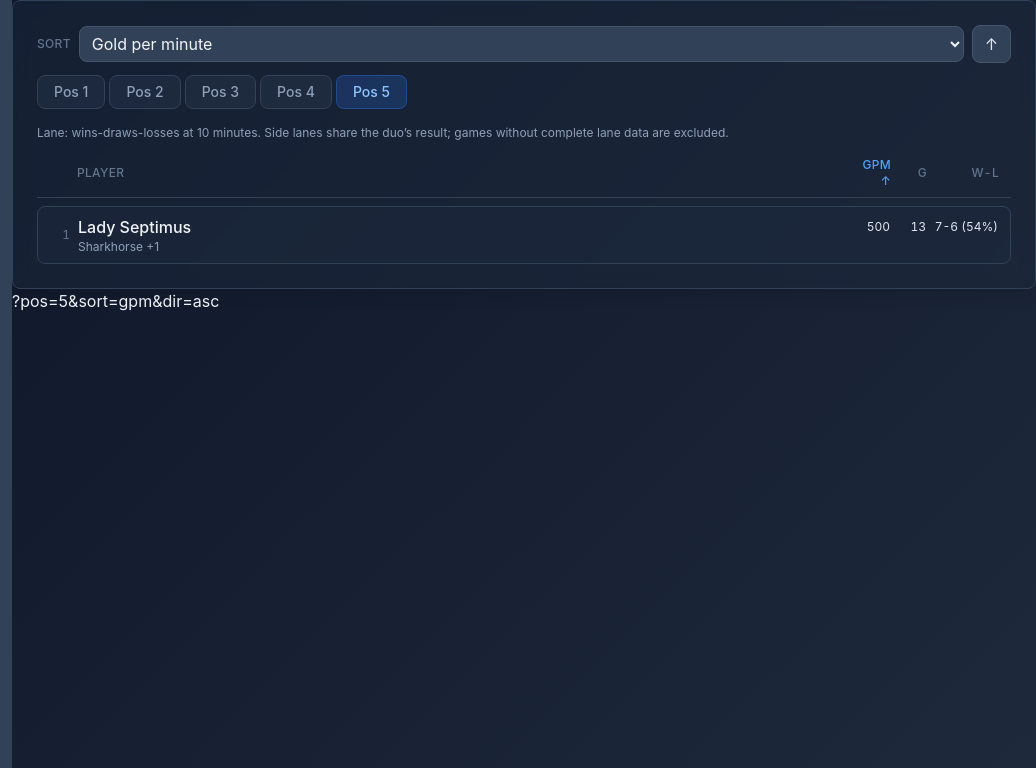
Test: DivisionPlayers › leaves a param at its default out of the URL
Expected: the text "Lady Septimus" is shown, [78, 217, 191, 237]
Click the button "Pos 1": (71, 92) [37, 75, 105, 109]
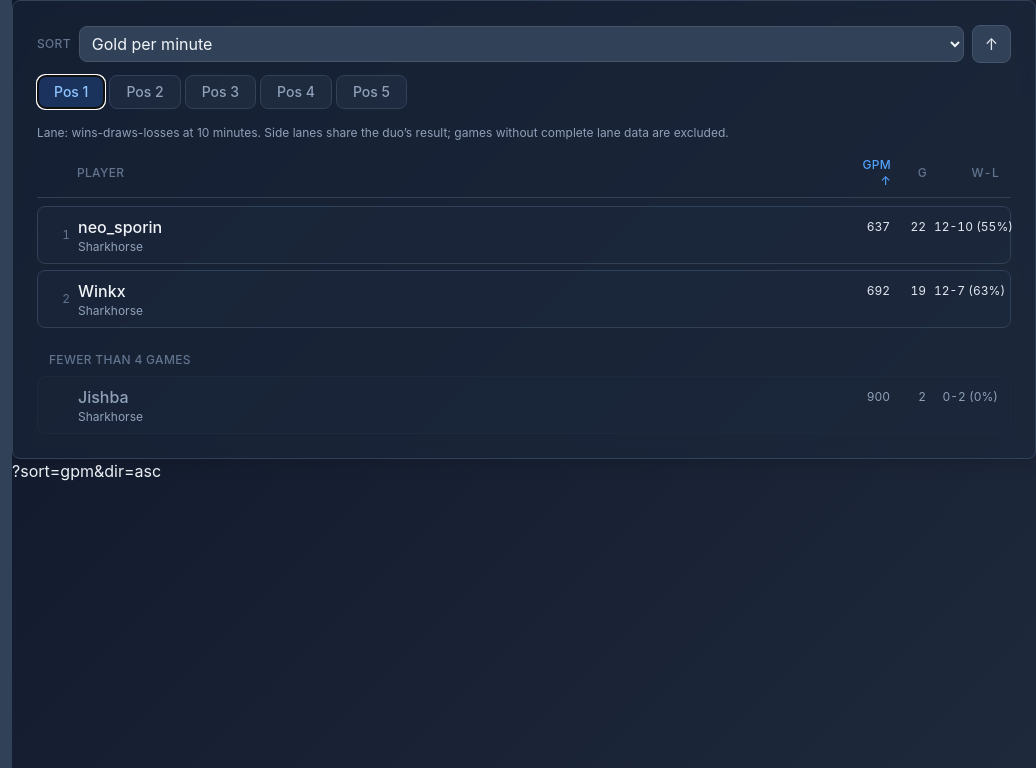
Expected: the text with test id "search" reads "?sort=gpm&dir=asc", [12, 461, 161, 481]
